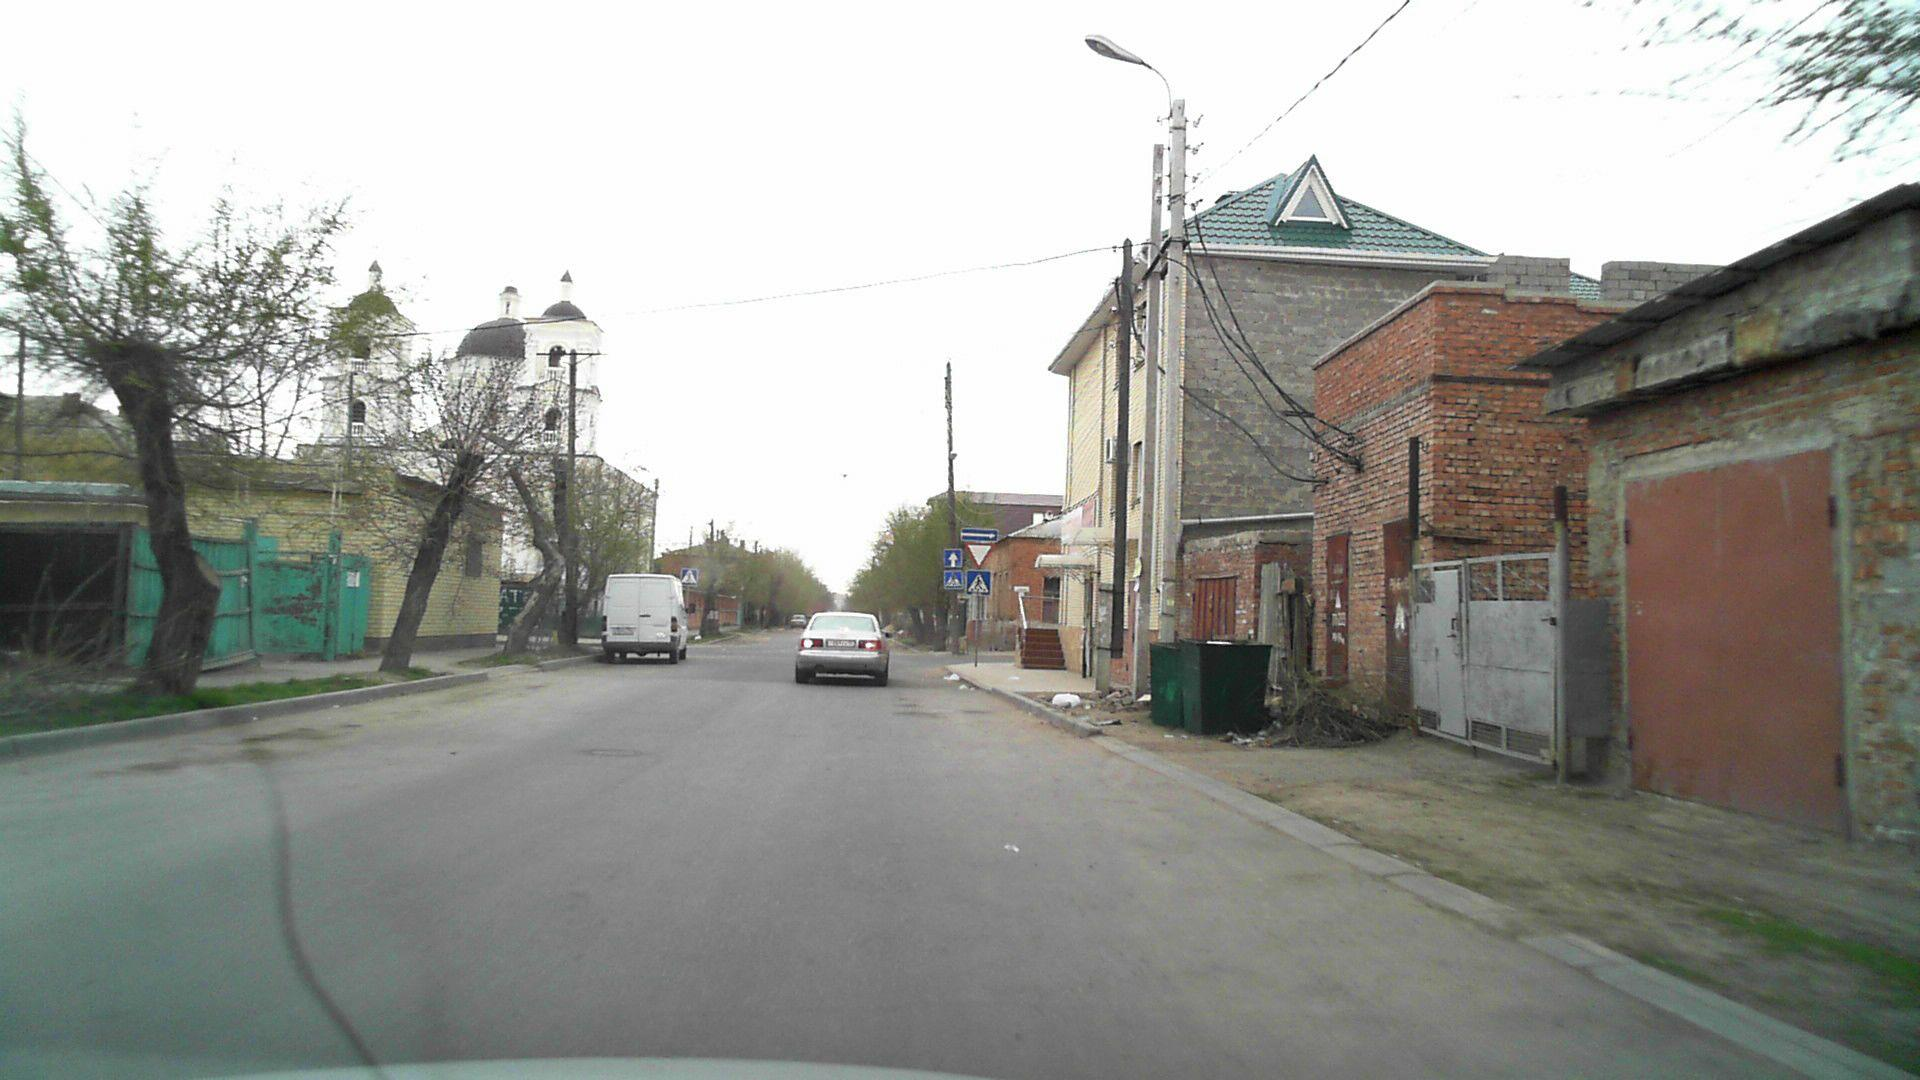2_4: (965, 545, 993, 567)
5_19_1: (968, 571, 992, 595), (943, 571, 963, 589)
5_19_2: (682, 568, 699, 587)
5_5: (944, 549, 963, 567)
5_7_1: (957, 526, 1000, 543)
